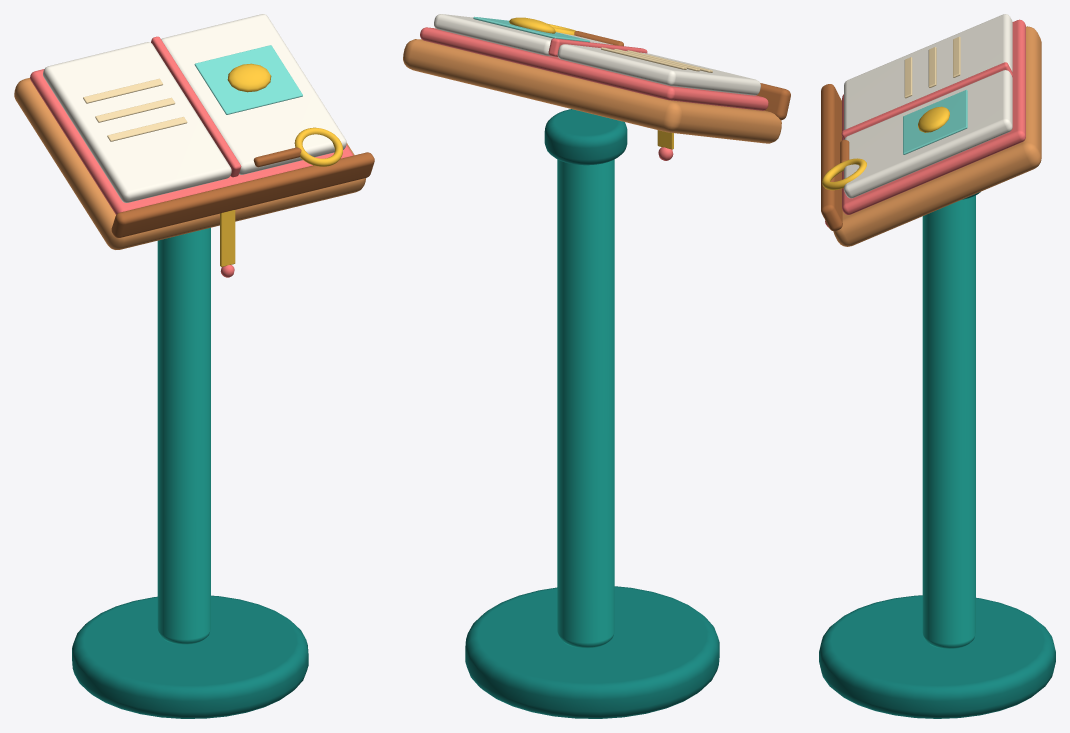
The model's file is Catalog.fbx.
The picture shows the model from 3 angles, left to right: view 1: azimuth 30°, elevation 25°; view 2: azimuth 150°, elevation 25°; view 3: azimuth 270°, elevation 25°; orthographic projection. The views are drawn at different scales.
Parts seen in each view (by area): view 1: Catalog mesh; view 2: Catalog mesh; view 3: Catalog mesh.
Part boxes in pixels (x1,y1,x2,y2): Catalog mesh: [14, 14, 374, 718]; Catalog mesh: [403, 14, 790, 718]; Catalog mesh: [819, 14, 1055, 718].
Bounding box in the file's own units: 0.5 × 1.14 × 0.4.
